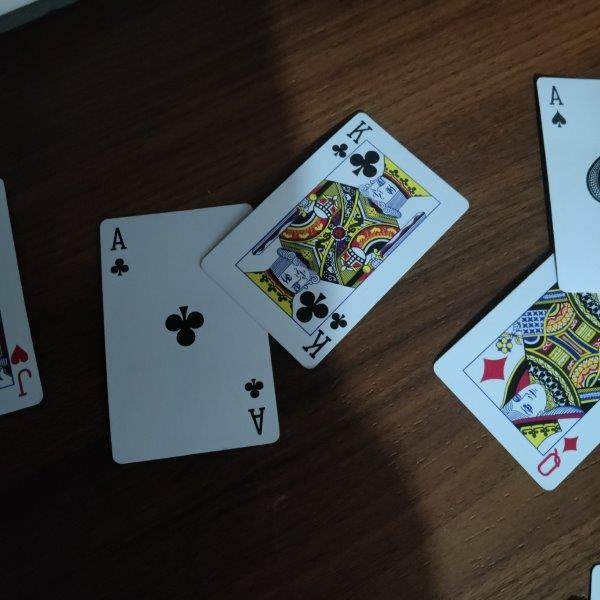Ace of Clubs: (100, 203, 281, 464)
Ace of Spades: (535, 77, 600, 293)
Jack of Hearts: (1, 178, 45, 416)
King of Clubs: (200, 111, 470, 369)
Queen of Diamonds: (433, 253, 600, 492)
